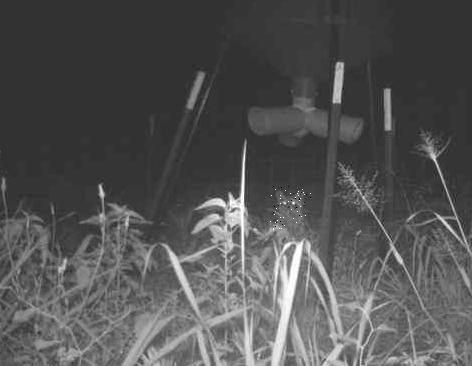Raccoon: (270, 187, 311, 231)
